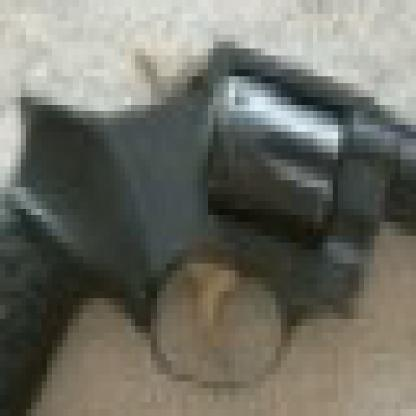gun: (0, 7, 411, 409)
